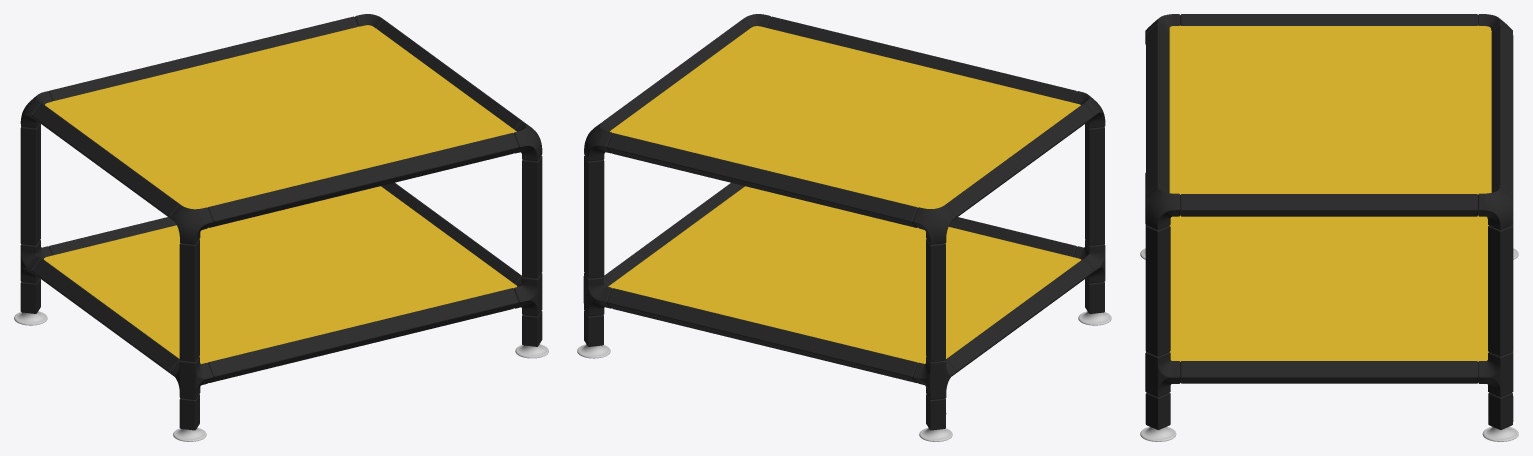
The picture shows the model from 3 angles, left to right: view 1: azimuth 30°, elevation 25°; view 2: azimuth 150°, elevation 25°; view 3: azimuth 270°, elevation 25°; orthographic projection. The views are drawn at different scales.
Visible parts, largest first — view 1: 420x329x154; view 2: 420x329x154; view 3: 420x329x154.
Boxes of the visible parts, x1=… form: 420x329x154: x1=14, y1=14, x2=548, y2=441; 420x329x154: x1=577, y1=14, x2=1111, y2=441; 420x329x154: x1=1140, y1=14, x2=1518, y2=441.
Size of the model in its own units: 0.5099 by 0.2933 by 0.4182.
